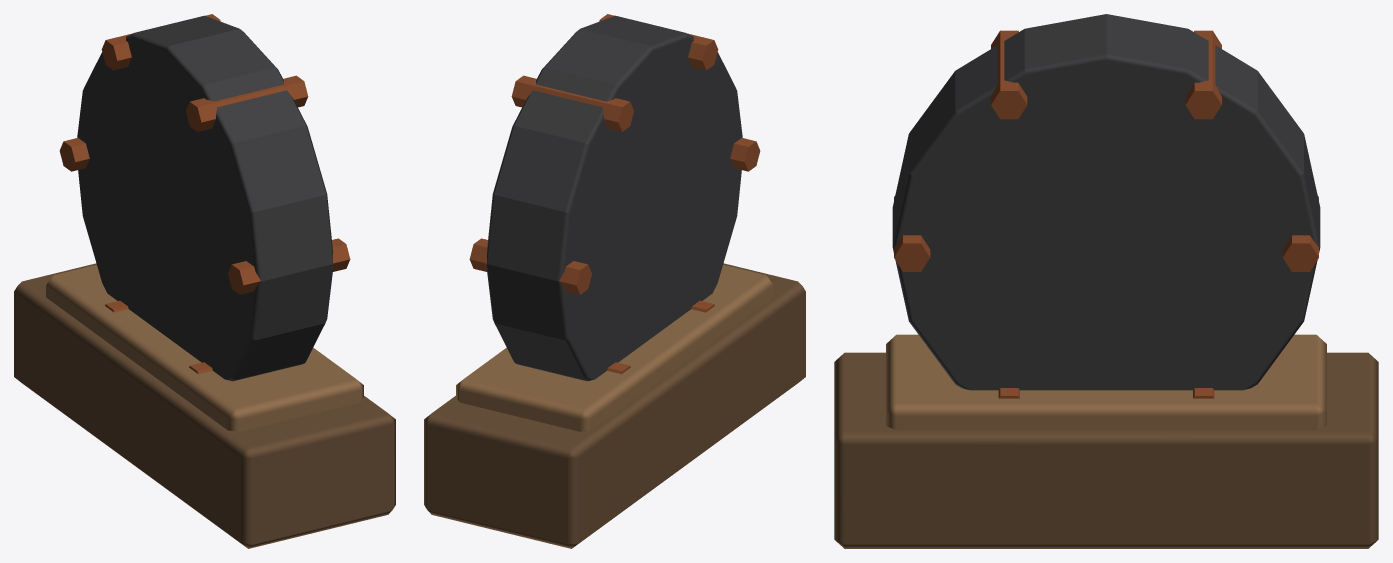
File: PipeJoint.glb
3 renders of one model, left to right at view 1: azimuth 30°, elevation 25°; view 2: azimuth 150°, elevation 25°; view 3: azimuth 270°, elevation 25°, orthographic. The views are drawn at different scales.
Parts seen in each view (by area): view 1: PipeJoint.001; view 2: PipeJoint.001; view 3: PipeJoint.001.
Boxes of the visible parts, x1,y1,x2,y2 form: PipeJoint.001: [14, 14, 395, 548]; PipeJoint.001: [424, 14, 805, 548]; PipeJoint.001: [834, 14, 1378, 548].
Size of the model in its own units: 0.16 by 0.405 by 0.42.
